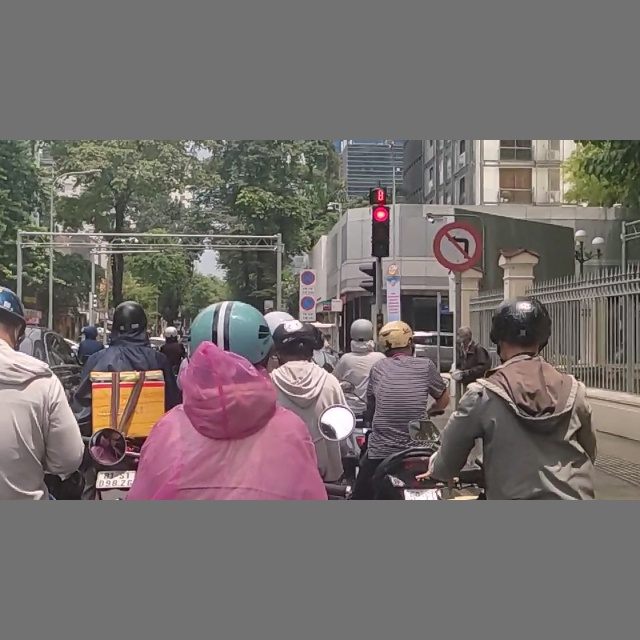P.123a: (432, 219, 481, 272)
P.130: (299, 269, 315, 286)
P.131a: (300, 294, 316, 311)
